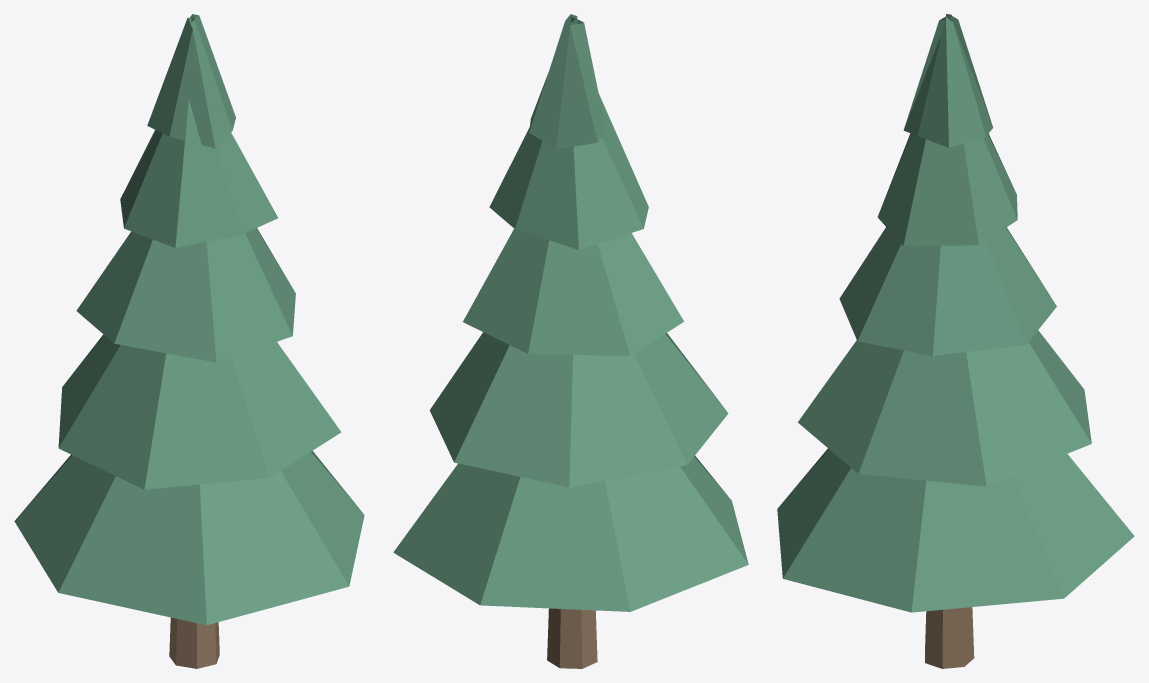
File: Tree_Pine.fbx
3 views of the same model, side by side, from view 1: azimuth 30°, elevation 25°; view 2: azimuth 150°, elevation 25°; view 3: azimuth 270°, elevation 25° (orthographic).
Parts seen in each view (by area): view 1: Tree_Pine_Mesh; view 2: Tree_Pine_Mesh; view 3: Tree_Pine_Mesh.
Part boxes in pixels (x1,y1,x2,y2): Tree_Pine_Mesh: (14, 14, 364, 668); Tree_Pine_Mesh: (393, 14, 748, 668); Tree_Pine_Mesh: (777, 14, 1134, 668).
Size of the model in its own units: 3.83 by 7.65 by 3.85.
